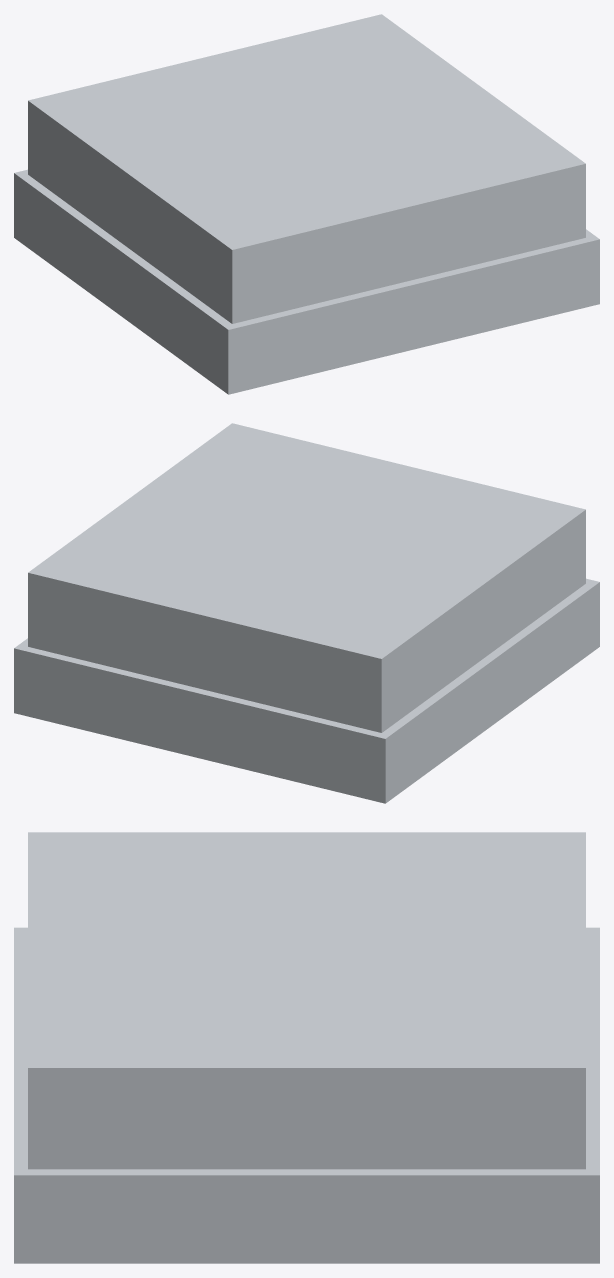
Rendered from telhado_platibanda_rufo_canto.glb.
The picture shows the model from 3 angles, top to bottom: view 1: azimuth 30°, elevation 25°; view 2: azimuth 150°, elevation 25°; view 3: azimuth 270°, elevation 25°; orthographic projection. The views are drawn at different scales.
Parts seen in each view (by area): view 1: telhado_platibanda_rufo_canto; view 2: telhado_platibanda_rufo_canto; view 3: telhado_platibanda_rufo_canto.
Boxes of the visible parts, box(x1,y1,x2,y2) form: telhado_platibanda_rufo_canto: box(14, 14, 599, 394); telhado_platibanda_rufo_canto: box(14, 423, 599, 803); telhado_platibanda_rufo_canto: box(14, 832, 599, 1263).
Bounding box in the file's own units: 0.21 × 0.075 × 0.21.
Materials: 1 (1 with a texture image).
